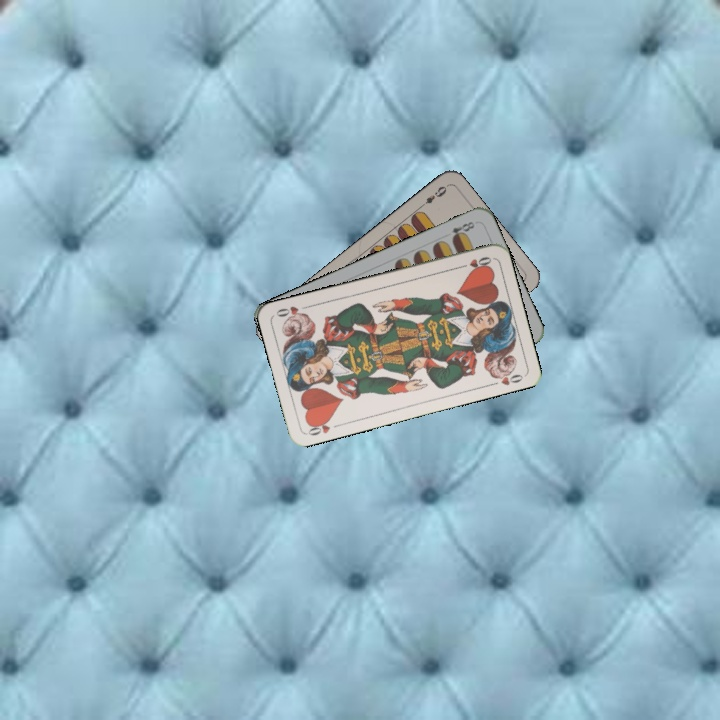E8: (447, 217, 479, 243)
E9: (415, 182, 449, 210)
HO: (454, 252, 494, 272), (304, 415, 333, 438)
